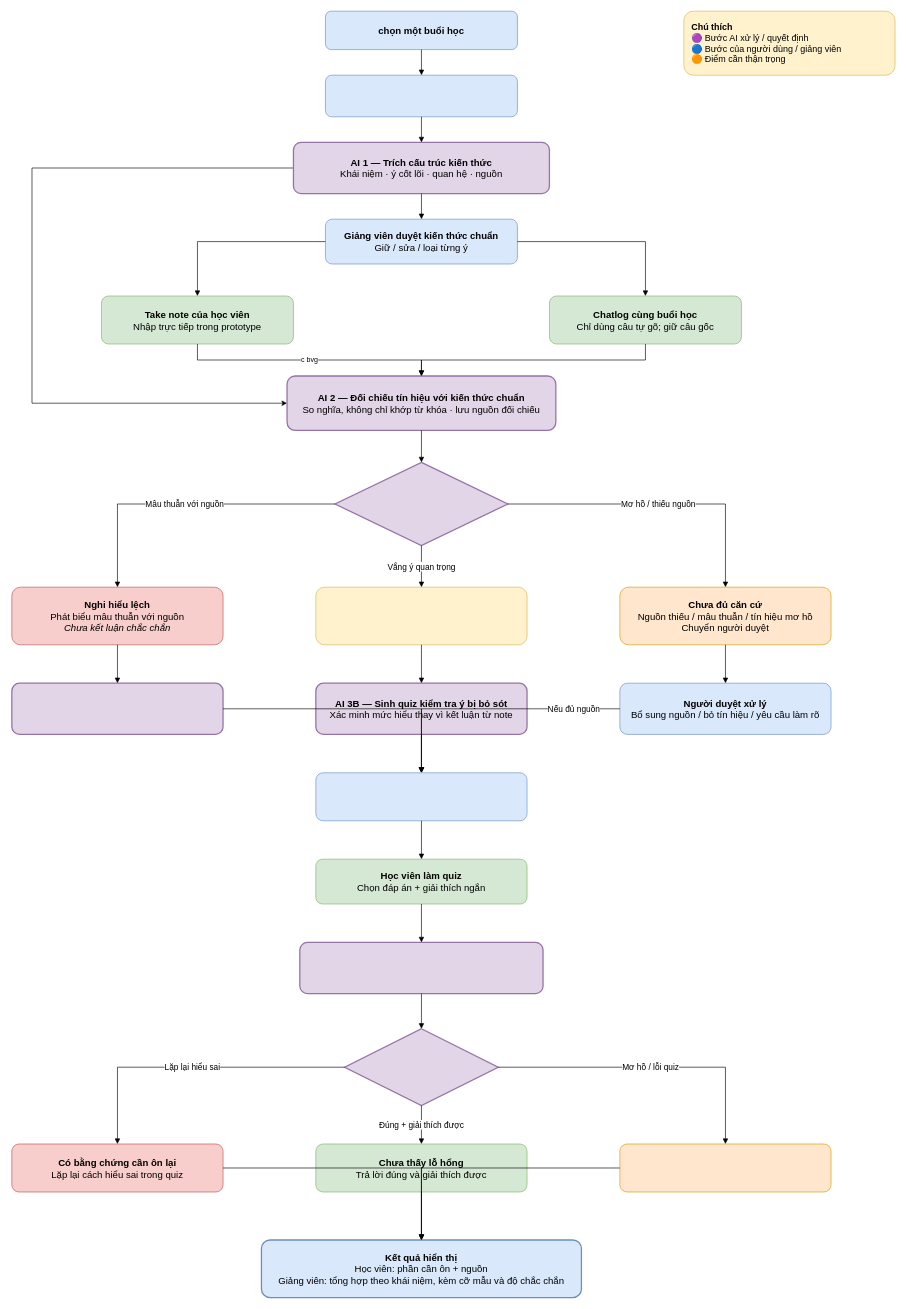
This 906x1309 diagram has some shape labels left out. Here are the shapes that lost their labels. From the top down, the centre of each, then its label:
At point 421,96: "Nguồn kiến thức Transcript + slide".
At point 421,503: "AI quyết định phân loại tín hiệu".
At point 421,616: "Chưa thấy trong ghi chú Ý quan trọng vắng mặt Không đồng nghĩa chưa hiểu".
At point 117,708: "AI 3A — Sinh quiz kiểm tra hiểu lệch Kiểm tra trực tiếp giả định có dấu hiệu sai".
At point 421,796: "Giảng viên duyệt quiz Câu hỏi · đáp án · lời giải · nguồn".
At point 421,967: "AI 4 — Đánh giá bằng chứng sau quiz Đối chiếu đáp án và lý do với nguồn".
At point 421,1067: "AI xác định kết quả".
At point 725,1167: "Cần kiểm tra thêm Câu trả lời mơ hồ hoặc quiz có vấn đề".
